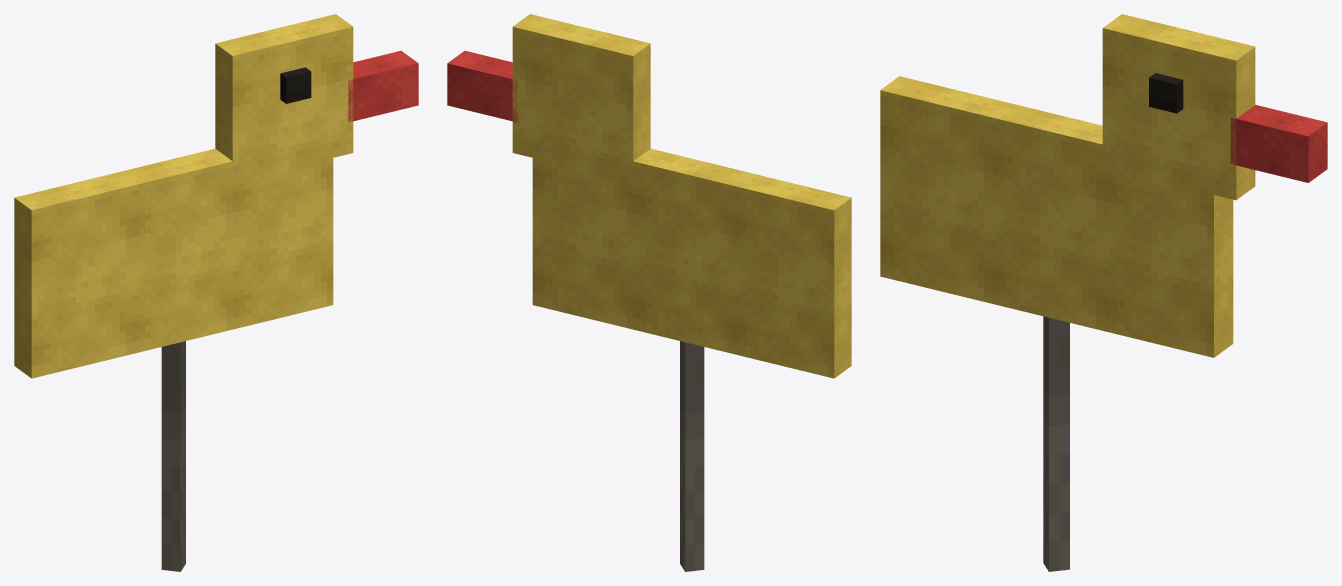
The model's file is pato.obj.
3 views of the same model, side by side, from view 1: azimuth 30°, elevation 25°; view 2: azimuth 150°, elevation 25°; view 3: azimuth 330°, elevation 25° (orthographic). The views are drawn at different scales.
Parts seen in each view (by area): view 1: pato; view 2: pato; view 3: pato.
Part boxes in pixels (x1=…): pato: x1=14, y1=14, x2=418, y2=571; pato: x1=447, y1=14, x2=851, y2=571; pato: x1=880, y1=14, x2=1327, y2=571.
Size of the model in its own units: 0.385 by 0.48 by 0.04.
Materials: 4 (4 with a texture image).
